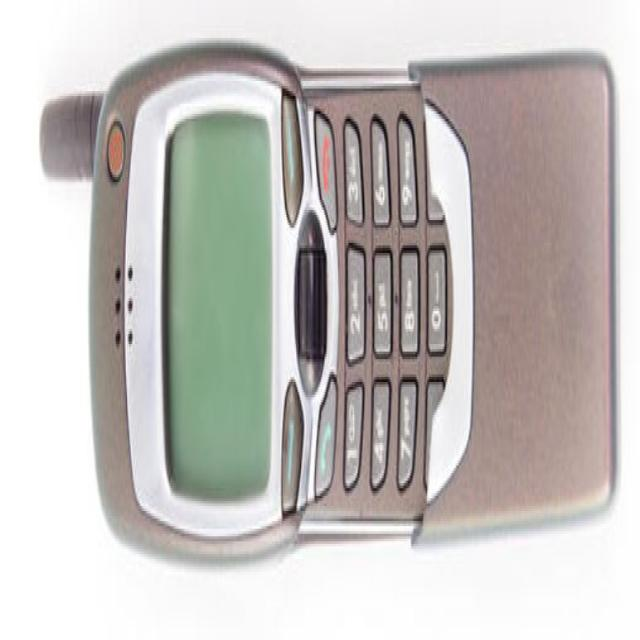electronic: (39, 36, 618, 562)
